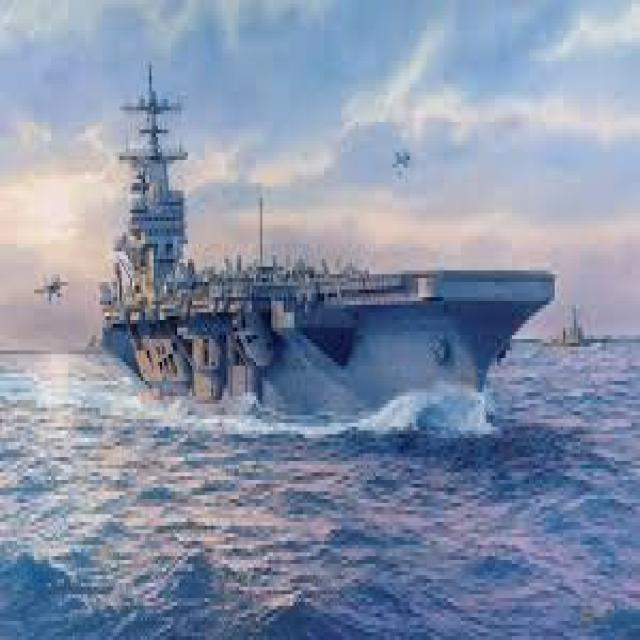navalvessels: (84, 66, 556, 437)
